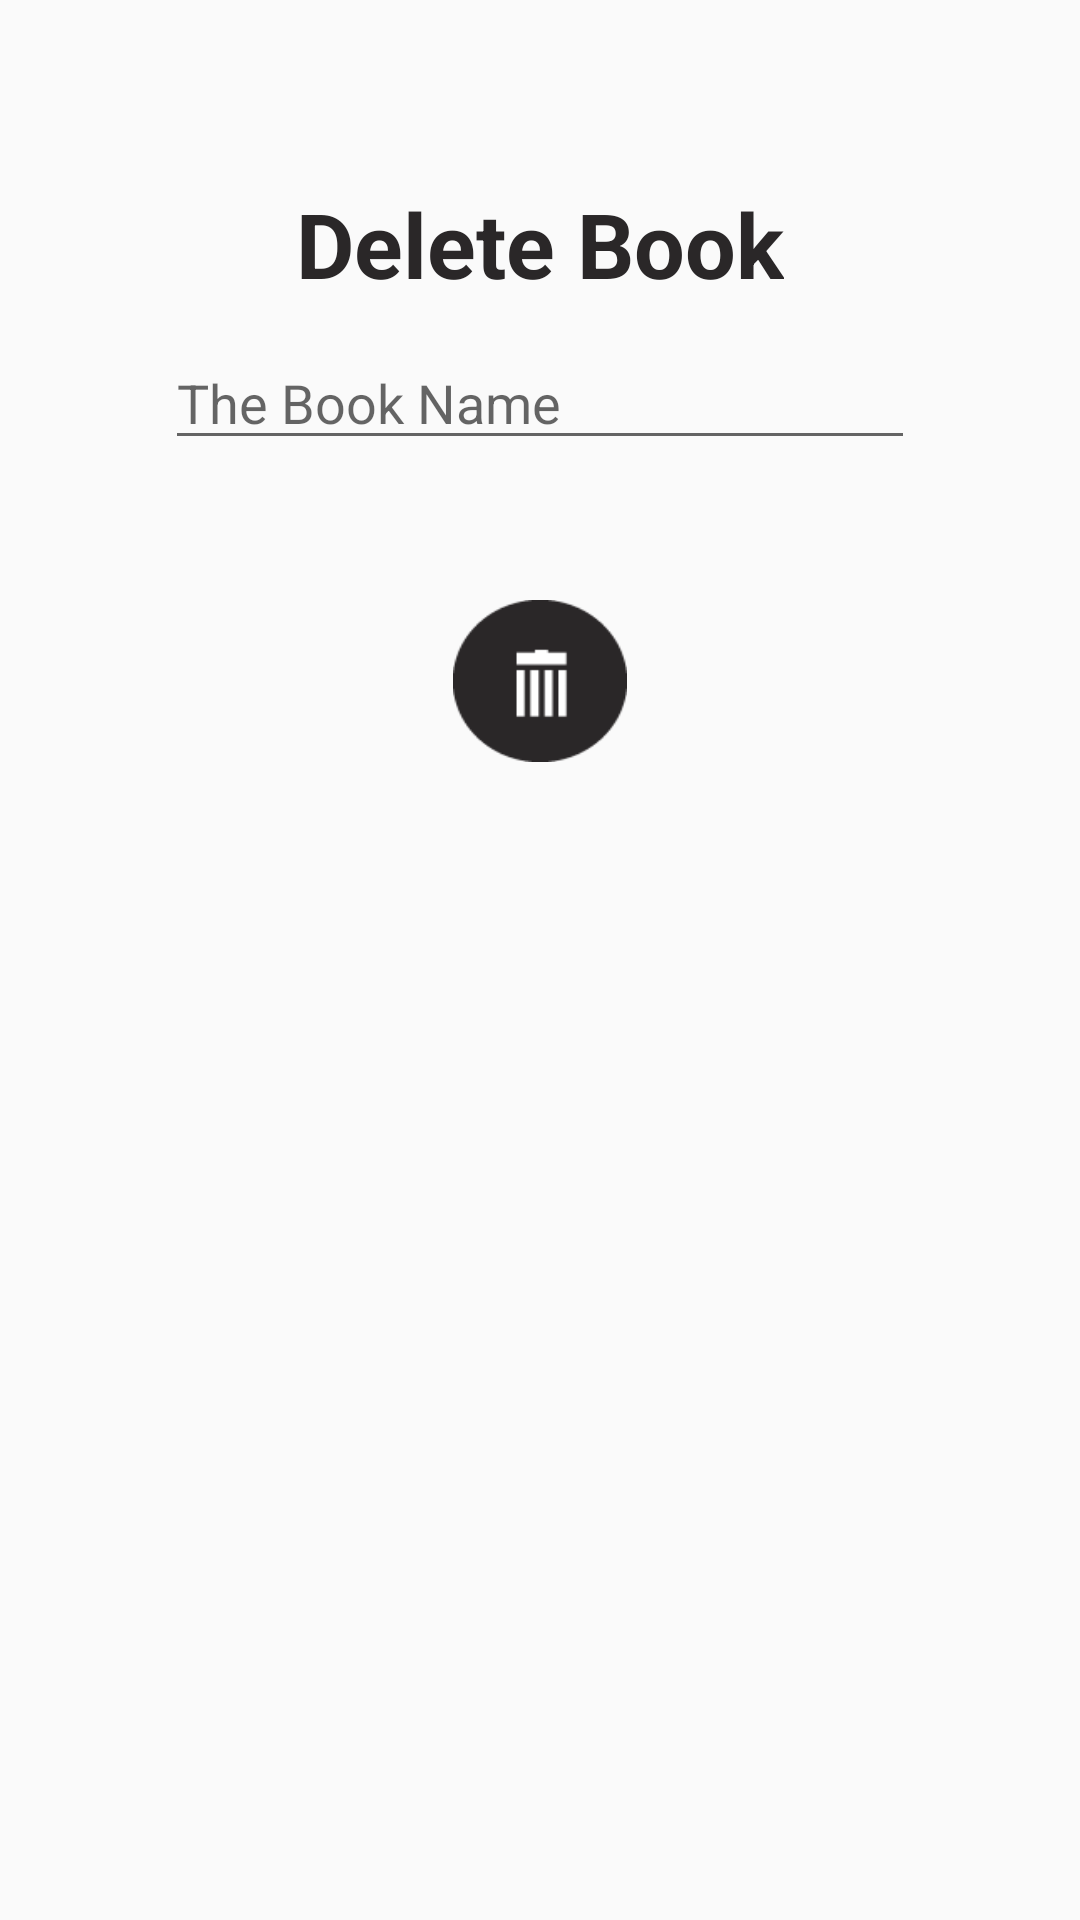

Locate icon controls on the screen. Image size 1080×1920, boxes as region(x1, y1, x2, y2).
delete: region(453, 600, 627, 762)
